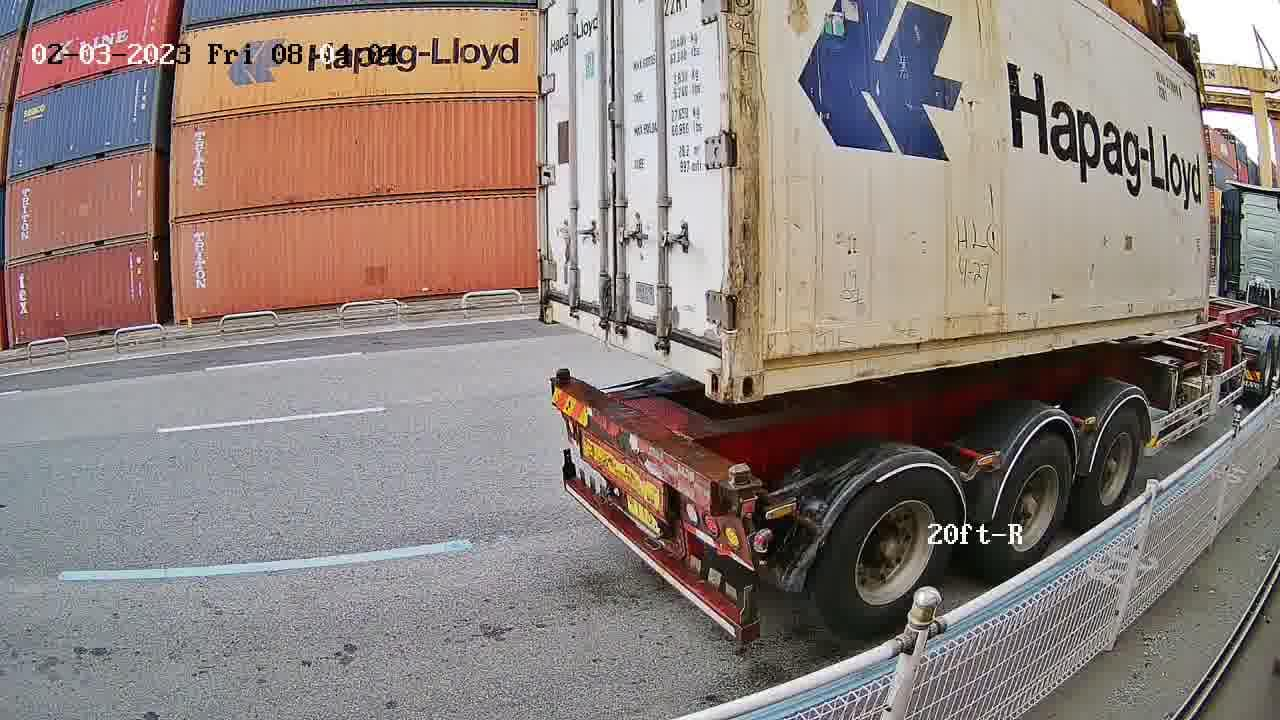Chassis: (551, 379, 757, 517)
Cone: (726, 463, 757, 517), (553, 362, 572, 385)
Hole_L: (683, 323, 731, 405), (537, 284, 571, 327)
Hole_R: (729, 325, 797, 406)
Tire: (822, 471, 963, 642), (995, 440, 1074, 569), (1085, 409, 1142, 519)
